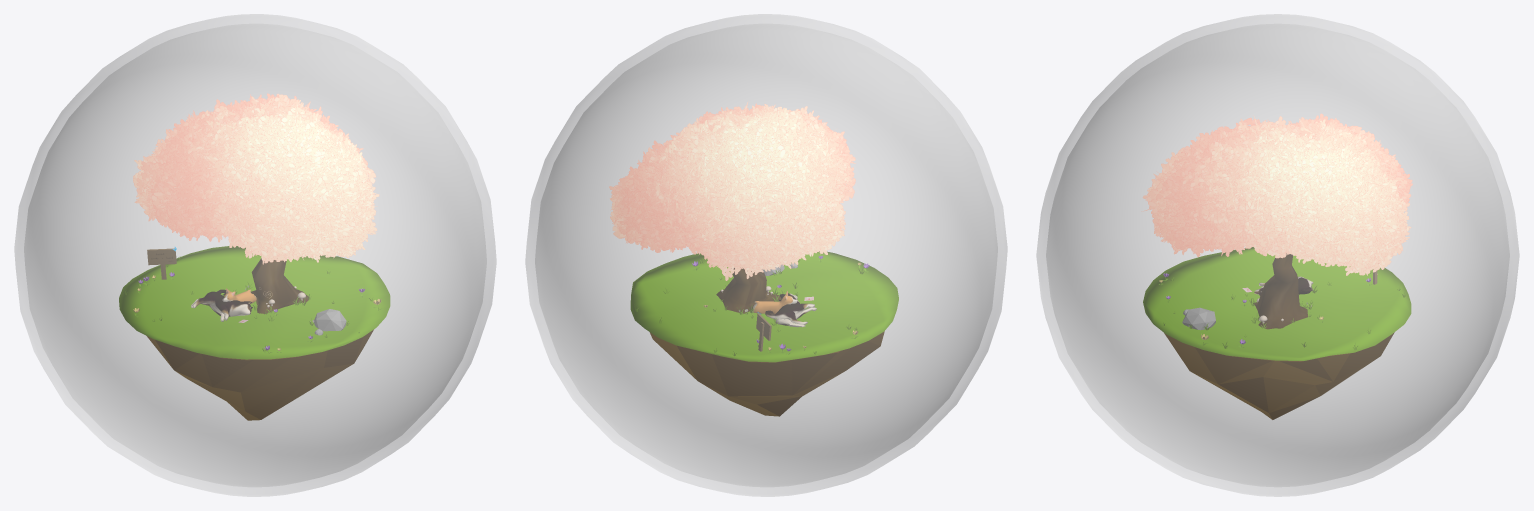
The model's file is tree.6b.gltf.
3 renders of one model, left to right at view 1: azimuth 30°, elevation 25°; view 2: azimuth 150°, elevation 25°; view 3: azimuth 270°, elevation 25°, orthographic.
Parts seen in each view (by area): view 1: orb, Plane.0, base, base.001, tree-bark, shibe, Rock; view 2: orb, Plane.0, base, base.001, tree-bark, shibe; view 3: orb, Plane.0, base, base.001, tree-bark, Rock.
Boxes of the visible parts, x1,y1,x2,y2 form: orb: (14,14,496,496); Plane.0: (133,93,379,264); base: (119,246,390,360); base.001: (147,330,373,420); tree-bark: (251,258,308,313); shibe: (191,289,252,321); Rock: (314,309,346,331); orb: (525,14,1007,496); Plane.0: (609,102,855,280); base: (630,251,898,362); base.001: (650,331,884,416); tree-bark: (716,268,781,313); shibe: (765,293,816,327); orb: (1036,14,1519,496); Plane.0: (1143,113,1412,275); base: (1143,247,1411,361); base.001: (1164,332,1394,419); tree-bark: (1253,253,1307,329); Rock: (1182,307,1215,330).
Size of the model in its own units: 22.69 by 22.69 by 22.69.
Materials: 19 (6 with a texture image).
